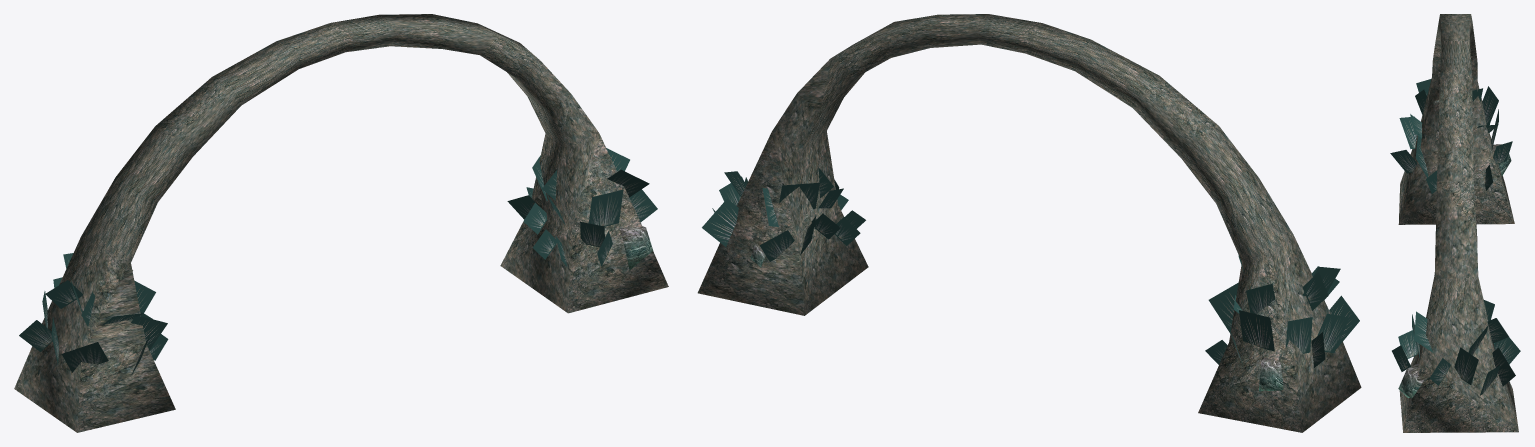
The model's file is rock_crystl_arch_sm_l3.fbx.
3 views of the same model, side by side, from view 1: azimuth 30°, elevation 25°; view 2: azimuth 150°, elevation 25°; view 3: azimuth 270°, elevation 25° (orthographic). The views are drawn at different scales.
Visible parts, largest first — view 1: mesh_node; view 2: mesh_node; view 3: mesh_node.
Boxes of the visible parts, x1,y1,x2,y2 form: mesh_node: (14, 14, 668, 432); mesh_node: (697, 14, 1361, 432); mesh_node: (1390, 14, 1520, 432).
Size of the model in its own units: 54.94 by 26.62 by 11.85.
